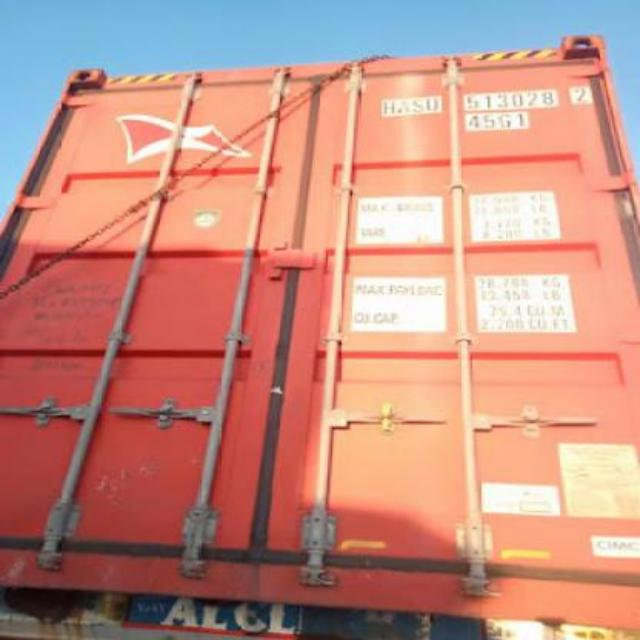0: (508, 88, 526, 110)
1: (481, 87, 494, 113)
2: (568, 82, 594, 108), (524, 86, 540, 110)
3: (494, 88, 508, 110)
5: (464, 90, 478, 114)
8: (538, 83, 554, 113)
A: (394, 95, 410, 118)
H: (380, 94, 396, 116)
S: (410, 94, 422, 118)
U: (422, 90, 440, 114)
